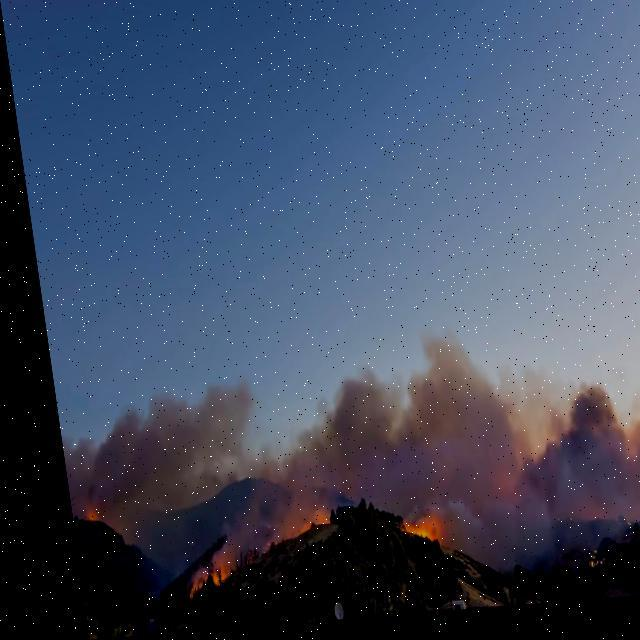Fire: (279, 511, 315, 538), (389, 526, 418, 552), (570, 555, 586, 578), (193, 568, 210, 588), (172, 581, 186, 600), (71, 512, 82, 526)
